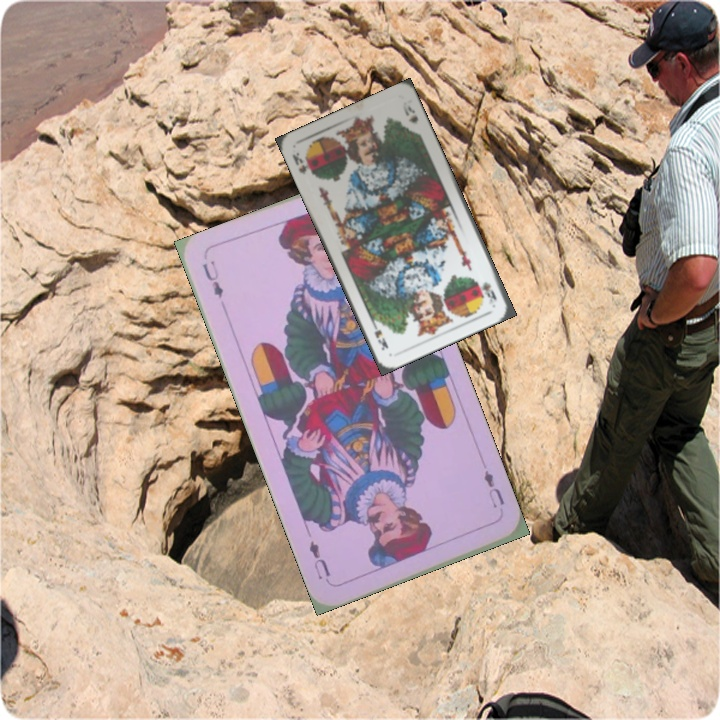EU: (198, 256, 226, 301), (480, 466, 507, 511)
SK: (288, 148, 316, 178), (478, 277, 499, 307)
